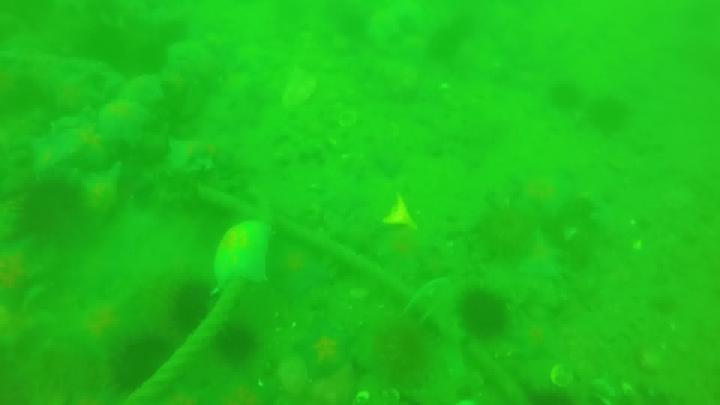echinus: (19, 176, 82, 252), (168, 277, 216, 338), (115, 337, 170, 388), (464, 293, 509, 338), (583, 97, 630, 138), (215, 328, 257, 367), (551, 83, 584, 108)
scallop: (551, 362, 575, 391), (382, 389, 403, 405), (356, 391, 371, 405)
starfish: (296, 313, 354, 381), (100, 89, 153, 152)
